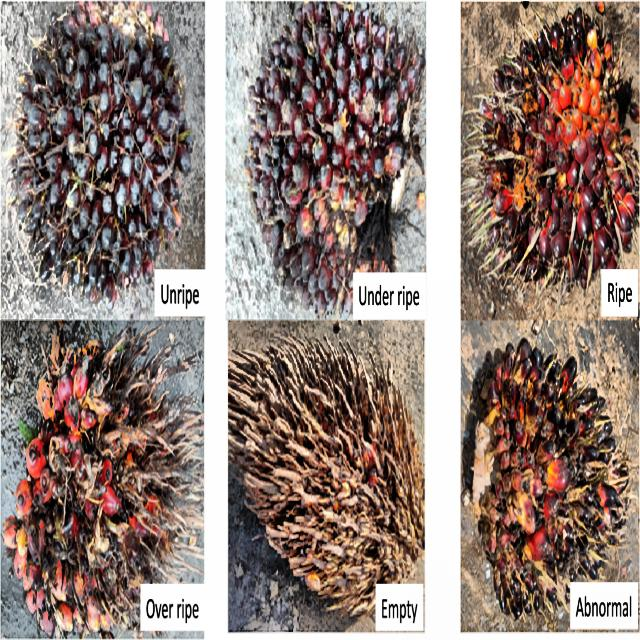FFB: (250, 5, 423, 319), (223, 346, 427, 612), (11, 334, 185, 640), (14, 10, 191, 300), (471, 341, 630, 611), (480, 27, 640, 293)
